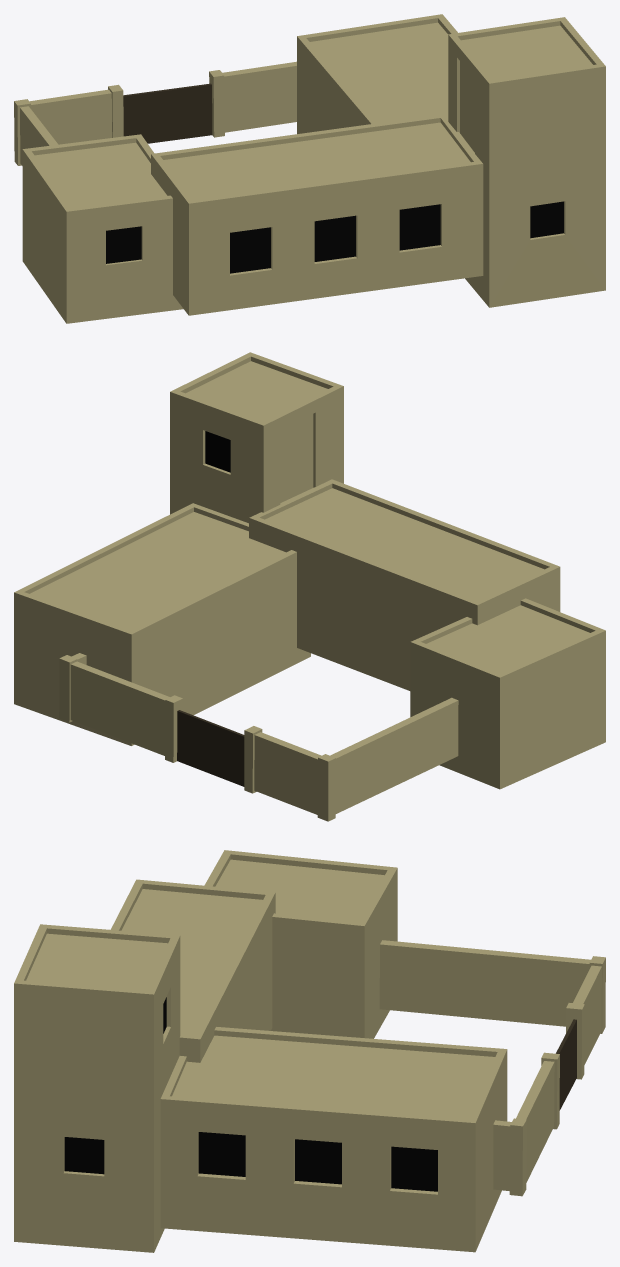
File: Compund 2.0 outside.fbx
The picture shows the model from 3 angles, top to bottom: view 1: azimuth 30°, elevation 25°; view 2: azimuth 150°, elevation 25°; view 3: azimuth 270°, elevation 25°; orthographic projection. The views are drawn at different scales.
Visible parts, largest first — view 1: pCube189; view 2: pCube189; view 3: pCube189.
Part boxes in pixels (box(x1,y1,x2,y2)): pCube189: box(14, 14, 605, 323); pCube189: box(14, 352, 605, 821); pCube189: box(14, 850, 605, 1252).
Bounding box in the file's own units: 1811 × 800 × 1661.
